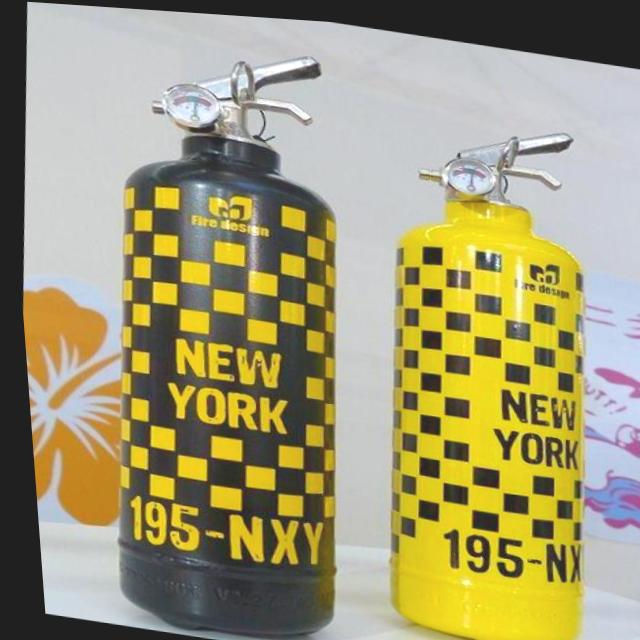FireExtinguisher: (66, 16, 384, 640), (338, 93, 628, 640)
